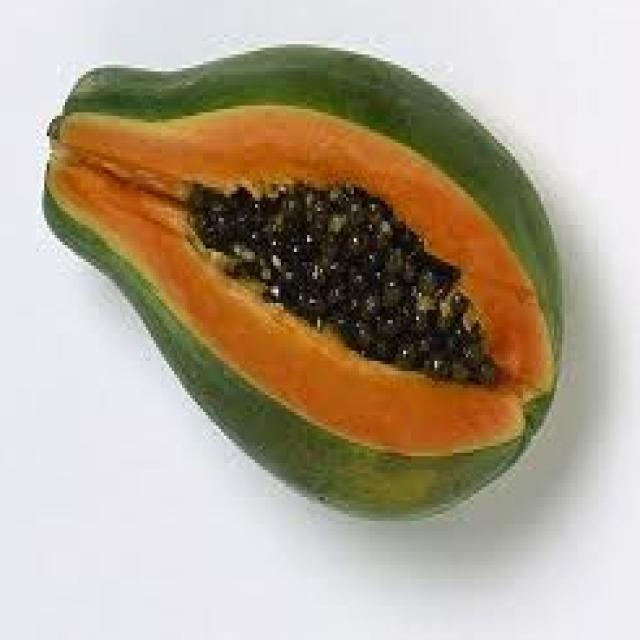papaya: (31, 31, 609, 531)
